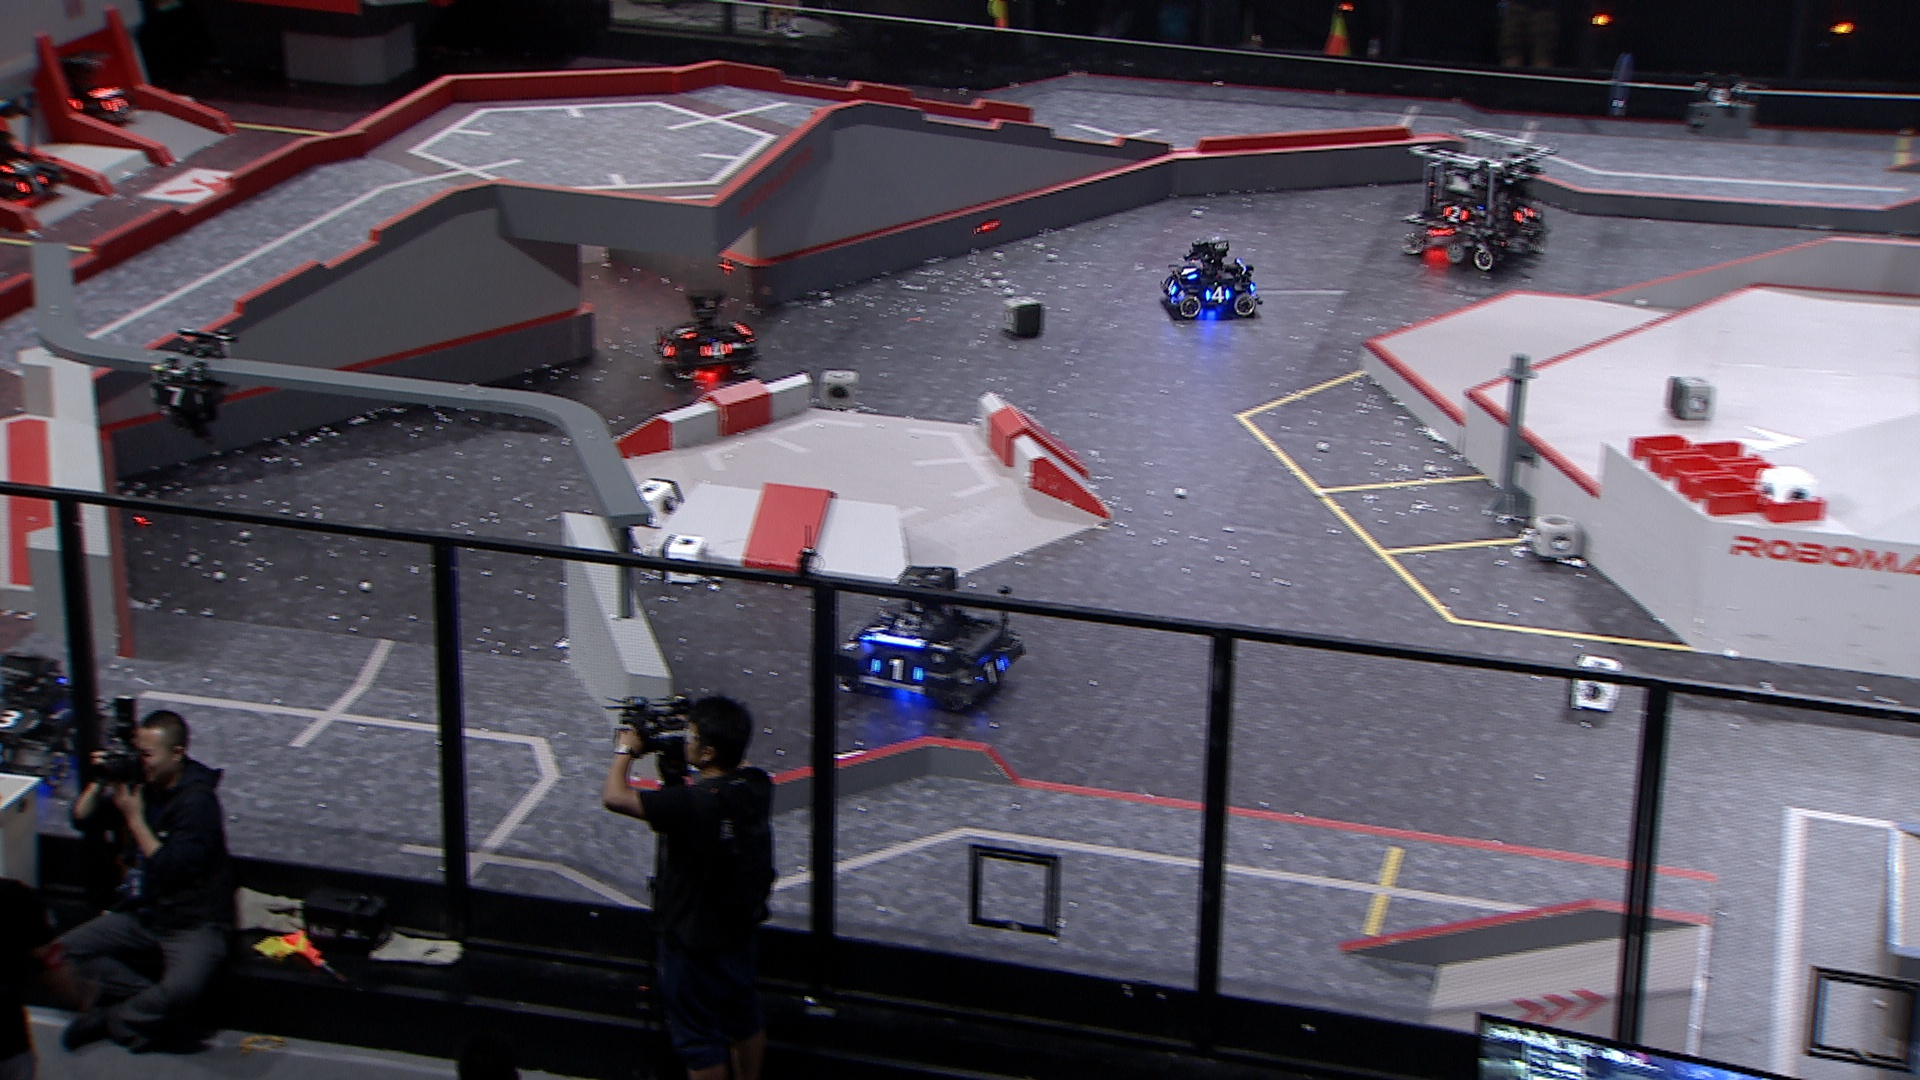armor: (869, 655, 923, 684), (148, 382, 202, 407), (971, 655, 1007, 688), (15, 171, 51, 196), (858, 617, 889, 644), (699, 338, 735, 357), (1441, 202, 1472, 224), (98, 96, 131, 115), (670, 322, 698, 342), (1204, 285, 1230, 305), (1, 158, 32, 175), (1513, 204, 1534, 225), (1178, 262, 1200, 281), (655, 334, 673, 357), (1163, 277, 1178, 295)
car: (827, 564, 1025, 713), (1395, 125, 1561, 272), (647, 285, 756, 381), (26, 47, 135, 135), (1156, 233, 1261, 320)
watcher: (144, 324, 239, 446)
